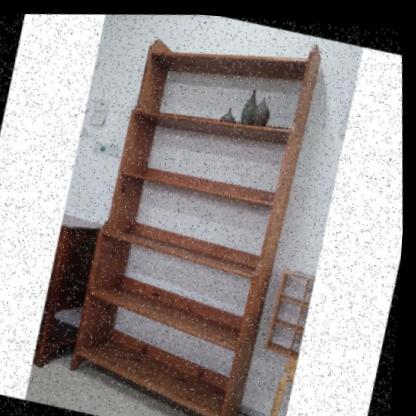Shelf: (34, 3, 353, 416)
